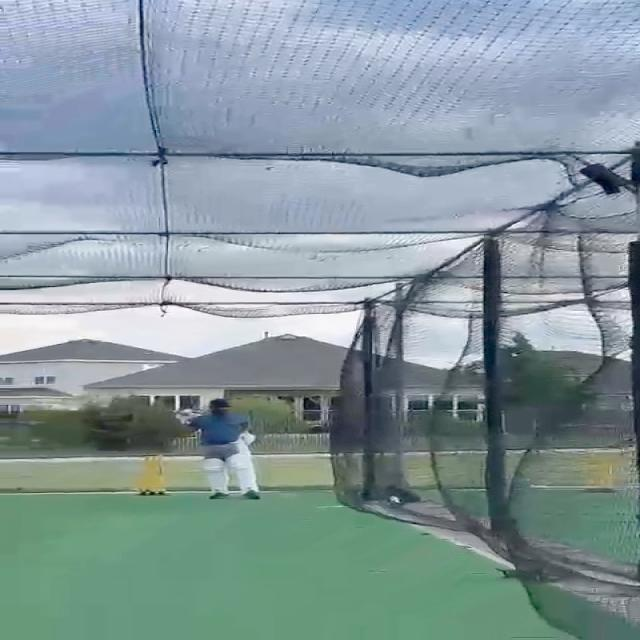batsman: (171, 395, 265, 502)
